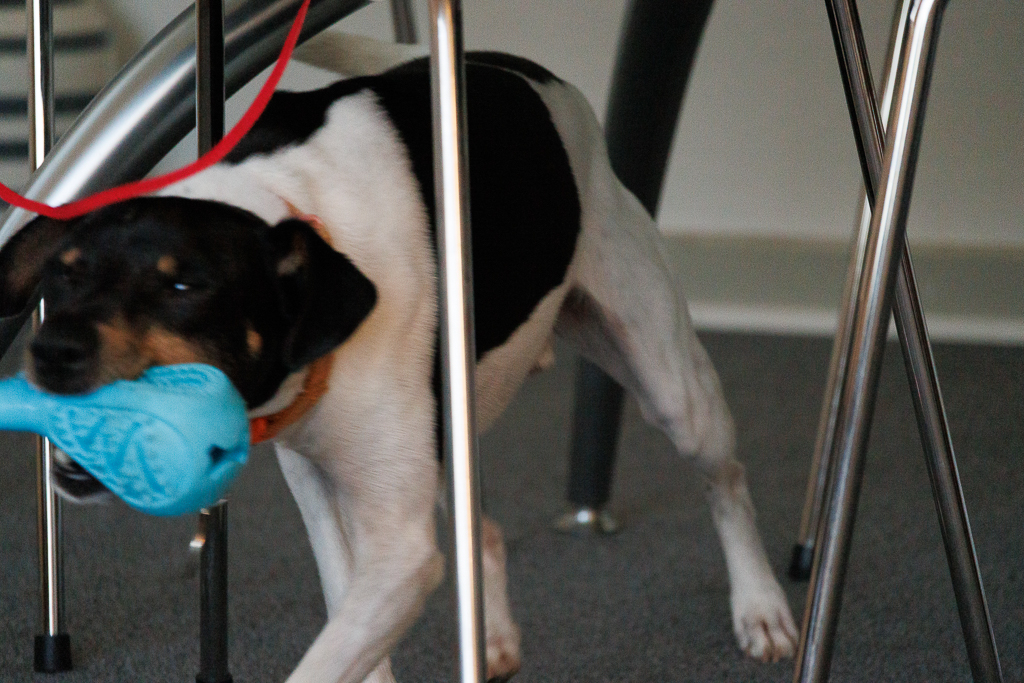Dog: (0, 21, 803, 682)
